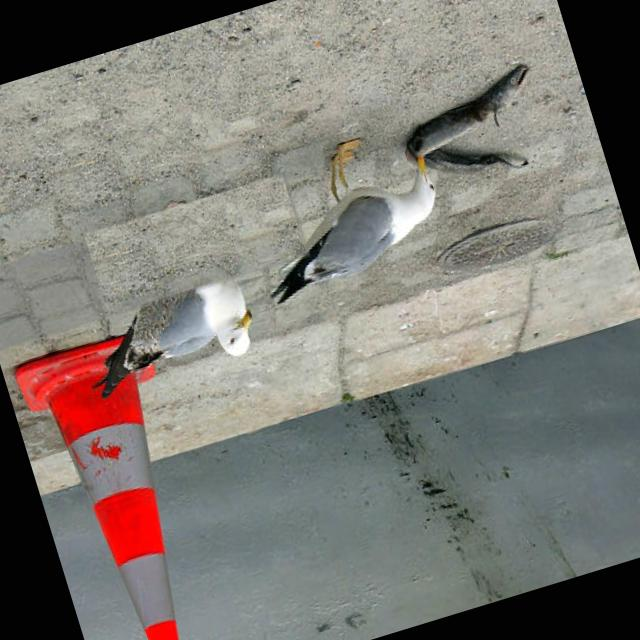cone: (5, 333, 232, 640)
